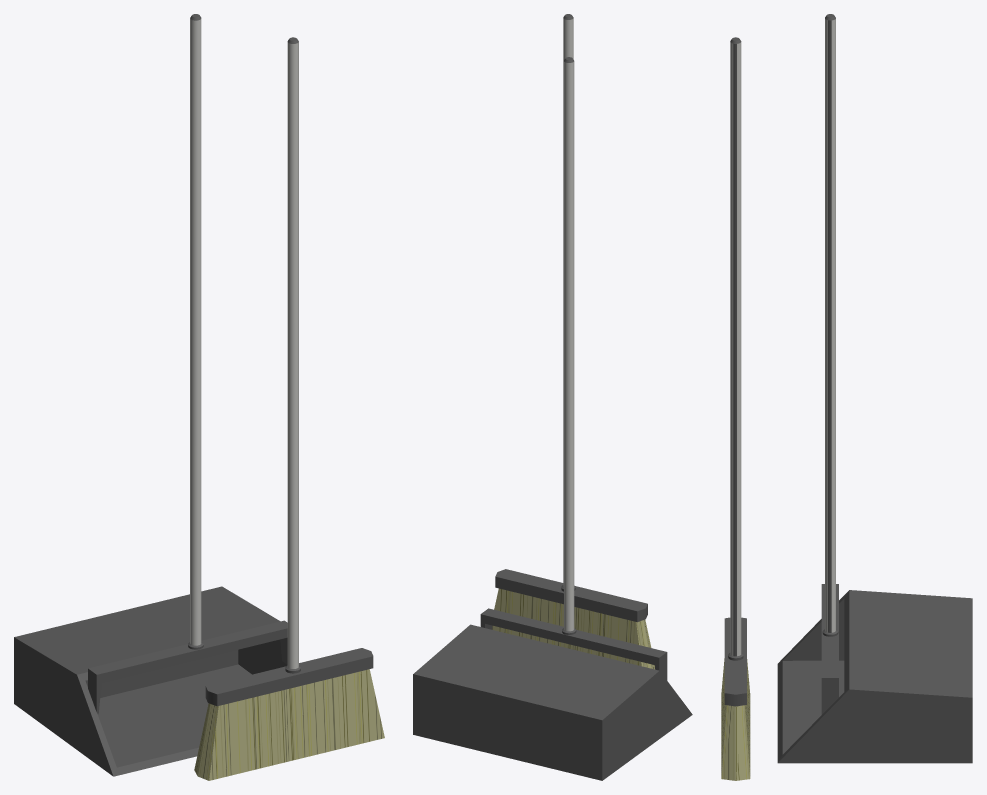
The model's file is Broom 1.FBX.
3 renders of one model, left to right at view 1: azimuth 30°, elevation 25°; view 2: azimuth 150°, elevation 25°; view 3: azimuth 270°, elevation 25°, orthographic. The views are drawn at different scales.
Parts seen in each view (by area): view 1: Broom; view 2: Broom; view 3: Broom.
Boxes of the visible parts, x1=… form: Broom: x1=14, y1=14, x2=384, y2=780; Broom: x1=413, y1=14, x2=692, y2=780; Broom: x1=721, y1=14, x2=972, y2=780.
Bounding box in the file's own units: 41.27 × 114 × 37.21.
